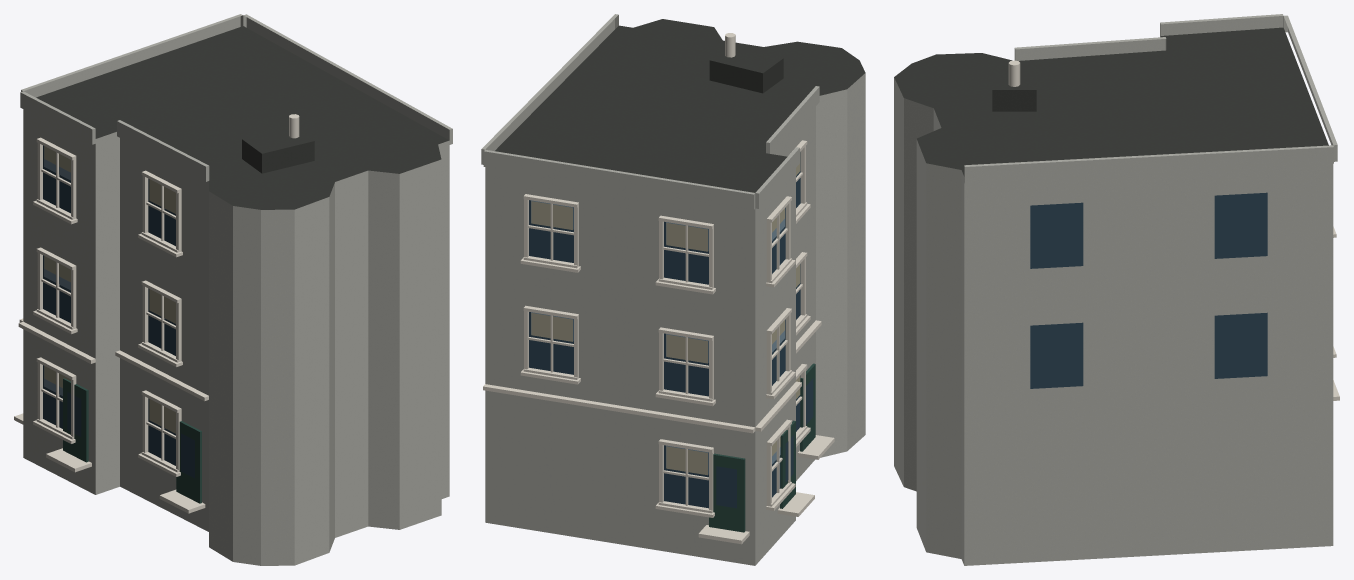
The picture shows the model from 3 angles, left to right: view 1: azimuth 30°, elevation 25°; view 2: azimuth 150°, elevation 25°; view 3: azimuth 270°, elevation 25°; orthographic projection. The views are drawn at different scales.
Visible parts, largest first — view 1: Footprint 0 / surface 2, Footprint 0 / surface 1, Cornices and window frames, Facade bay volumes, Inset glazing, Interior blind variation, Storefronts and doors, Inferred rooftop service enclosure / surface 5, Inferred rooftop service enclosure / surface 3, Sky reflection panels; view 2: Footprint 0 / surface 2, Footprint 0 / surface 1, Cornices and window frames, Inset glazing, Facade bay volumes, Interior blind variation, Storefronts and doors, Inferred rooftop service enclosure / surface 6, Inferred rooftop service enclosure / surface 3, Sky reflection panels; view 3: Footprint 0 / surface 2, Footprint 0 / surface 1, Inset glazing, Facade bay volumes, Inferred rooftop service enclosure / surface 3, Inferred rooftop service enclosure / surface 1.
Part boxes in pixels (x1,y1,x2,y2): Footprint 0 / surface 2: [23, 109, 449, 565]; Footprint 0 / surface 1: [36, 26, 449, 209]; Cornices and window frames: [14, 137, 208, 513]; Facade bay volumes: [20, 14, 452, 181]; Inset glazing: [43, 145, 194, 478]; Interior blind variation: [44, 146, 175, 433]; Storefronts and doors: [63, 378, 201, 503]; Inferred rooftop service enclosure / surface 5: [262, 141, 314, 173]; Inferred rooftop service enclosure / surface 3: [242, 127, 313, 153]; Sky reflection panels: [44, 146, 70, 395]; Footprint 0 / surface 2: [485, 73, 865, 565]; Footprint 0 / surface 1: [495, 19, 865, 192]; Cornices and window frames: [483, 140, 834, 544]; Inset glazing: [529, 152, 813, 508]; Facade bay volumes: [481, 14, 819, 209]; Interior blind variation: [531, 152, 800, 475]; Storefronts and doors: [709, 363, 815, 532]; Inferred rooftop service enclosure / surface 6: [709, 60, 762, 93]; Inferred rooftop service enclosure / surface 3: [710, 46, 782, 73]; Sky reflection panels: [531, 200, 784, 474]; Footprint 0 / surface 2: [894, 36, 1333, 565]; Footprint 0 / surface 1: [894, 27, 1328, 176]; Inset glazing: [1030, 192, 1267, 388]; Facade bay volumes: [964, 14, 1337, 183]; Inferred rooftop service enclosure / surface 3: [992, 62, 1036, 89]; Inferred rooftop service enclosure / surface 1: [992, 90, 1036, 111].
Size of the model in its own units: 10.07 by 12.97 by 12.12.
